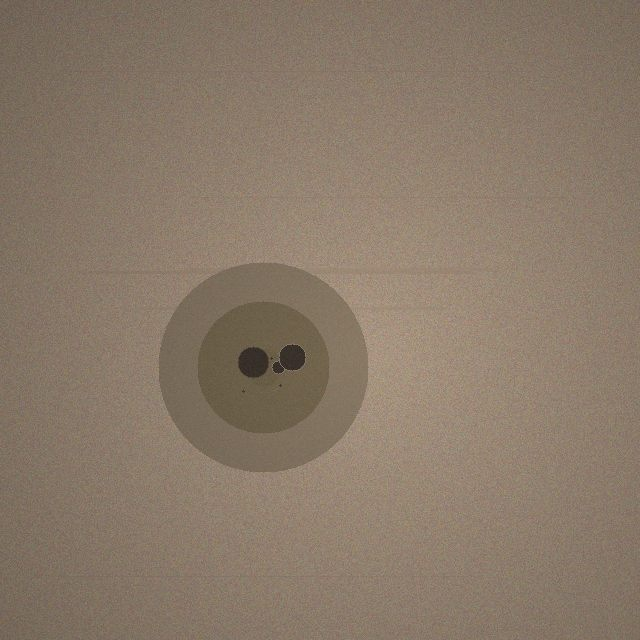shrinkage: (158, 262, 368, 472)
